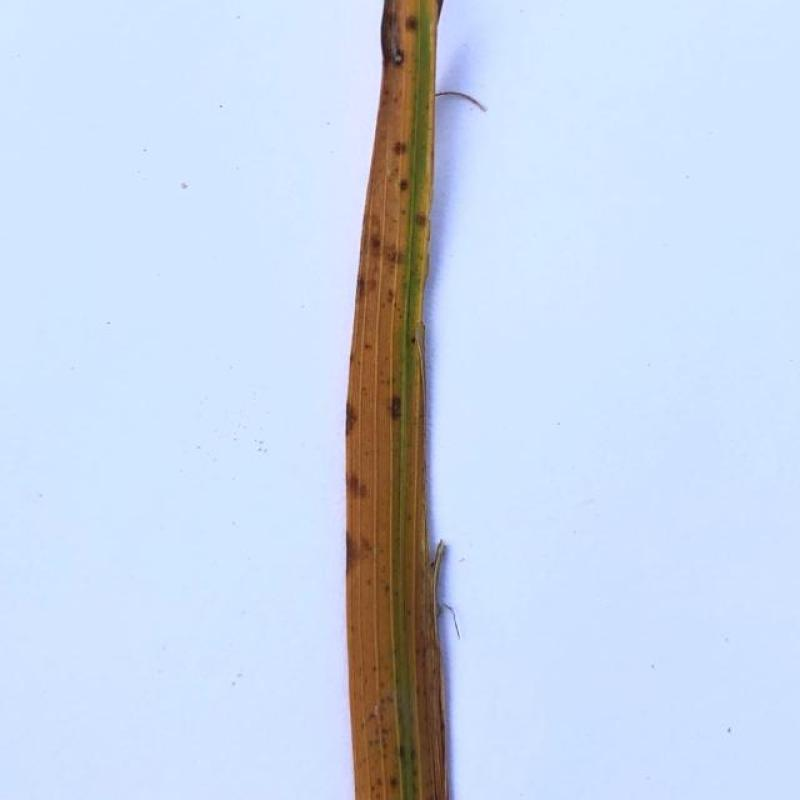Rice Tungro: (400, 500, 446, 800)
